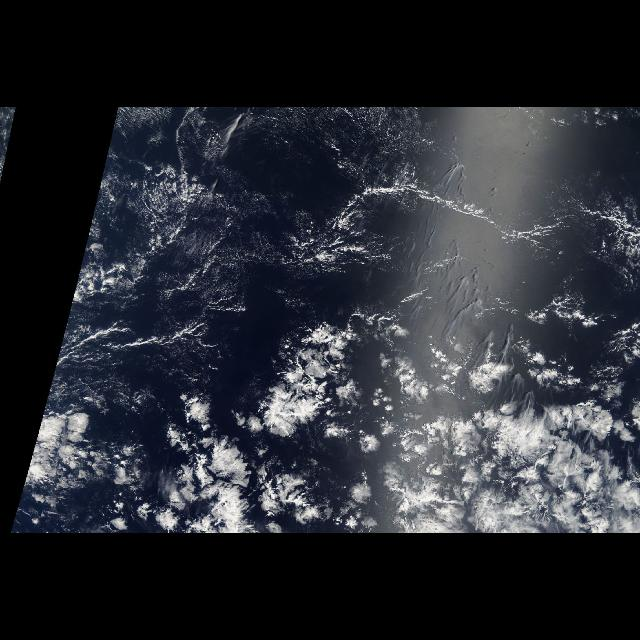Flower: (144, 318, 382, 532)
